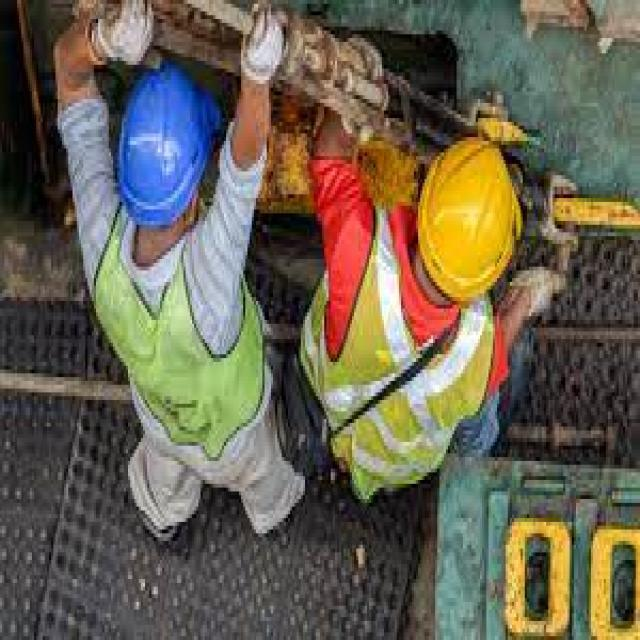reflective_jacket: (301, 220, 495, 514), (91, 220, 273, 472)
safety_helmet: (414, 125, 523, 312), (110, 61, 215, 228)
